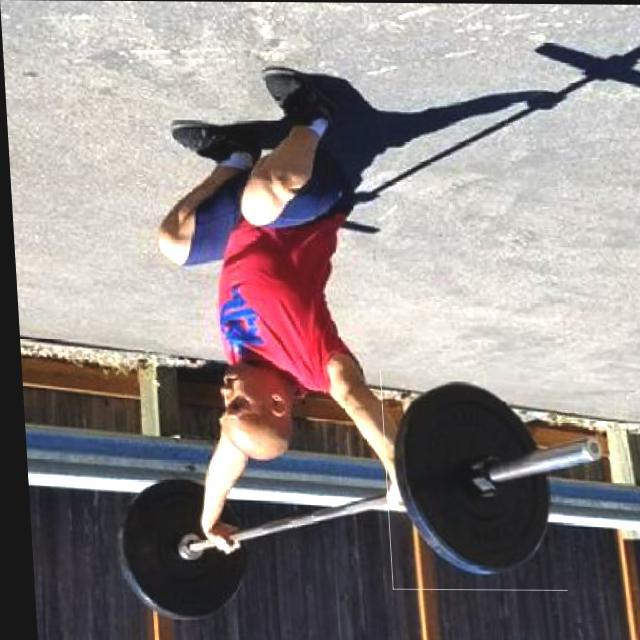barbell: (376, 371, 561, 591)
